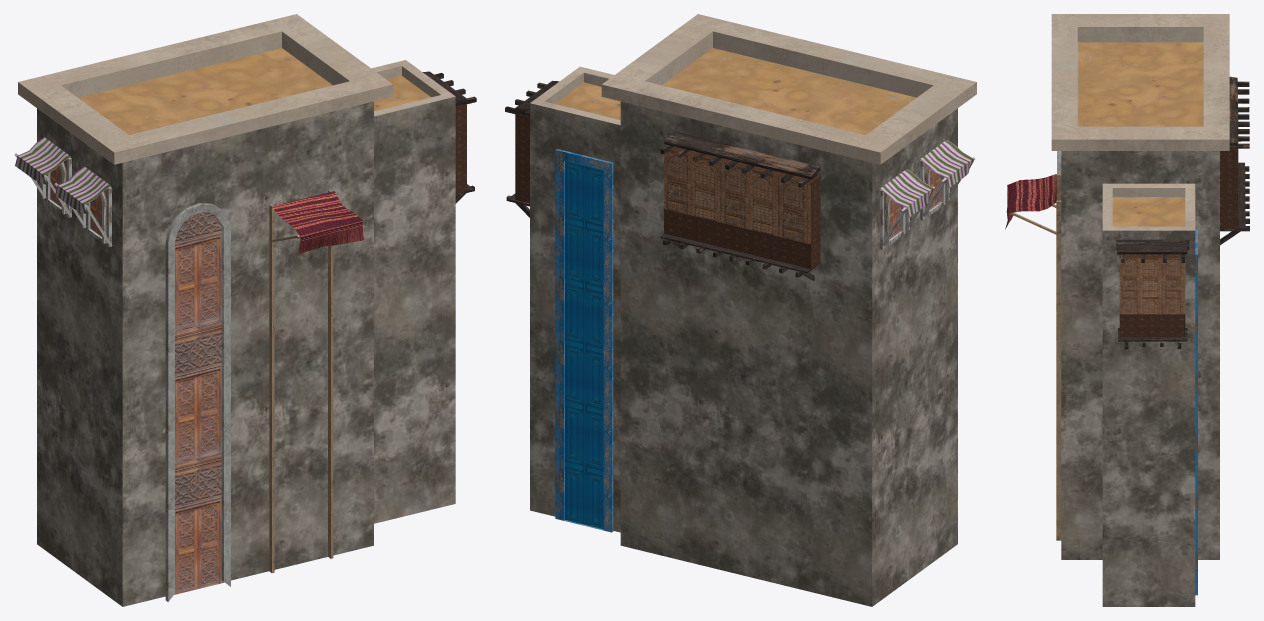
Rendered from medina_cityscape_daar_02_3.gltf.
The picture shows the model from 3 angles, left to right: view 1: azimuth 30°, elevation 25°; view 2: azimuth 150°, elevation 25°; view 3: azimuth 270°, elevation 25°; orthographic projection. The views are drawn at different scales.
Parts seen in each view (by area): view 1: medina_cityscape_daar_02_3; view 2: medina_cityscape_daar_02_3; view 3: medina_cityscape_daar_02_3.
Part boxes in pixels (x1,y1,x2,y2): medina_cityscape_daar_02_3: (14, 14, 476, 606); medina_cityscape_daar_02_3: (505, 14, 976, 606); medina_cityscape_daar_02_3: (1005, 14, 1249, 606).
Size of the model in its own units: 7.89 by 8.45 by 4.36.
Materials: 8 (8 with a texture image).
